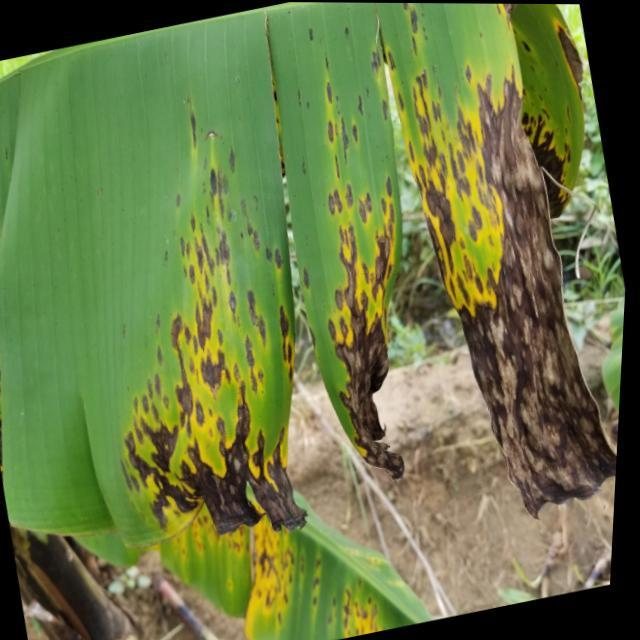Early_rust: (82, 0, 598, 640)
